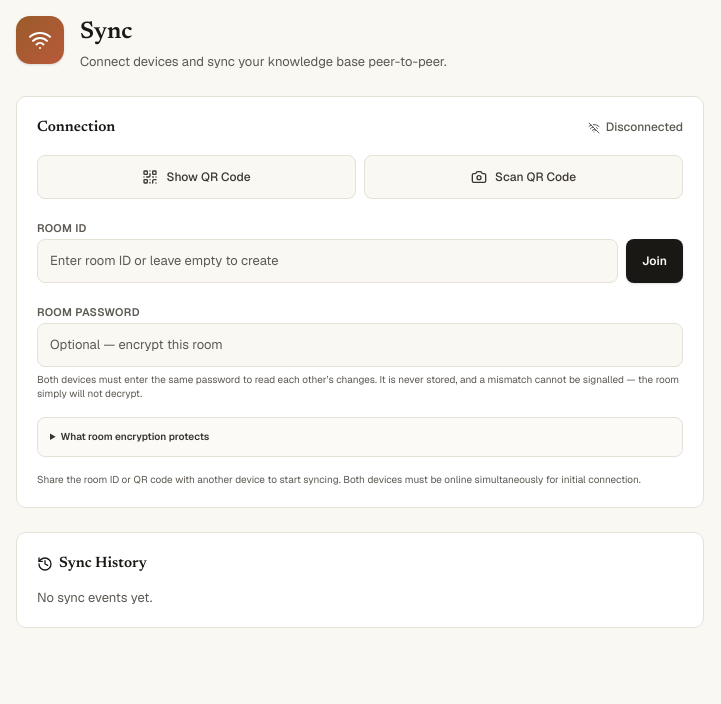
SyncView branch coverage › handles join errors and shows error status
Click the button "Join" at coordinates (654, 261), box 626,239 -> 683,283
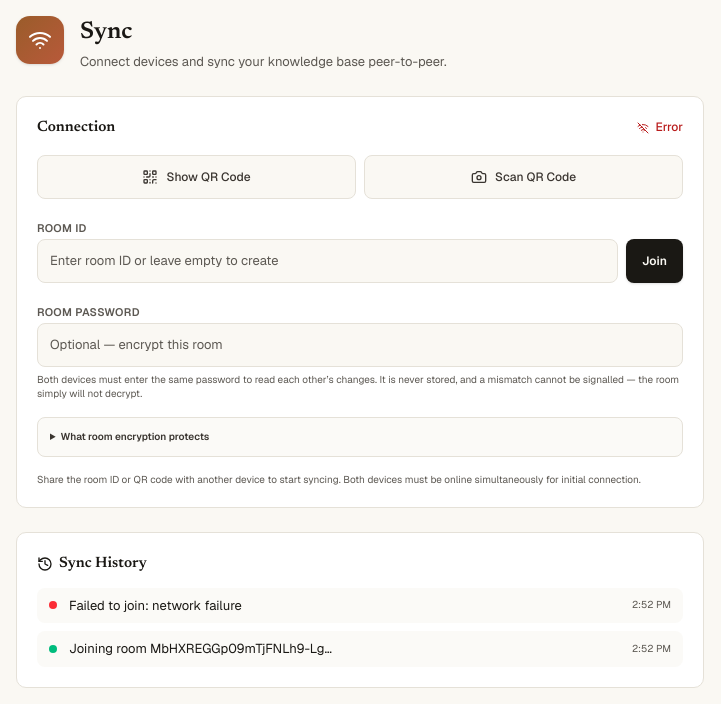
Result: the text "Error" is shown at 638,119 -> 683,136
